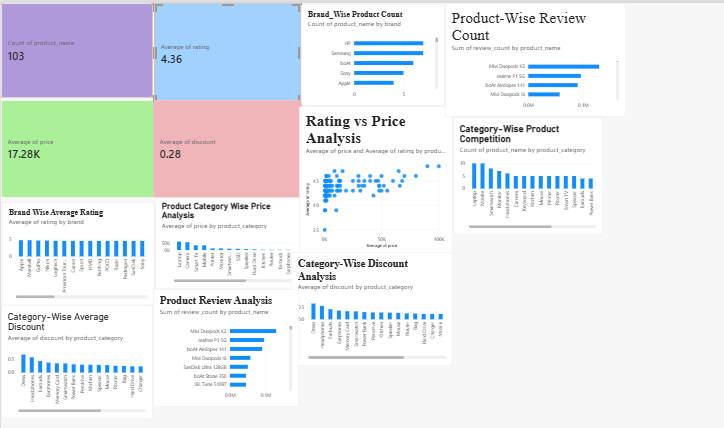

The dashboard page shown, as its layout file describes it:
{"tool":"powerbi","page":{"name":"Page 1","canvas":[1920,1080],"ordinal":0},"visuals":[{"type":"cardVisual","fields":{"Data":["CountNonNull(ecommerce_products.product_name)"]},"box":[0,15,387.5,255],"z":0},{"type":"cardVisual","fields":{"Data":["Avg(ecommerce_products.price)"]},"box":[0,270,388.3,246.7],"z":1},{"type":"cardVisual","fields":{"Data":["Avg(ecommerce_products.rating)"]},"box":[388.3,3.3,370,255],"z":2},{"type":"cardVisual","fields":{"Data":["Count(ecommerce_products.product_category)"]},"box":[598.8,361.2,370,246.7],"z":3},{"type":"columnChart","title":"Product Category Wise Price Analysis","fields":{"Category":["ecommerce_products.product_category"],"Y":["Avg(ecommerce_products.price)"]},"box":[0,453.3,366.7,236.7],"z":4},{"type":"clusteredColumnChart","title":"Brand Wise Average Rating","fields":{"Category":["ecommerce_products.brand"],"Y":["Avg(ecommerce_products.rating)"]},"box":[376.7,410,385,260],"z":5},{"type":"cardVisual","fields":{"Data":["Avg(ecommerce_products.discount)"]},"box":[383.3,258.3,378.8,246.2],"z":6},{"type":"clusteredBarChart","title":"Brand_Wise Product Count","fields":{"Category":["ecommerce_products.brand"],"Y":["CountNonNull(ecommerce_products.product_name)"]},"box":[761.7,43.3,356.7,226.7],"z":7},{"type":"scatterChart","title":"Rating vs Price Analysis","fields":{"Category":["ecommerce_products.product_name"],"X":["Avg(ecommerce_products.price)"],"Y":["Avg(ecommerce_products.rating)"]},"box":[751.7,258.3,366.7,368.3],"z":8},{"type":"clusteredBarChart","title":"Product-Wise Review Count","fields":{"Category":["ecommerce_products.product_name"],"Y":["Sum(ecommerce_products.review_count)"]},"box":[1118.3,31.7,483.3,248.3],"z":9},{"type":"clusteredColumnChart","title":"Category-Wise Discount Analysis","fields":{"Category":["ecommerce_products.product_category"],"Y":["Avg(ecommerce_products.discount)"]},"box":[1155,473.3,408.3,286.7],"z":10},{"type":"clusteredBarChart","title":"Product Review Analysis","fields":{"Category":["ecommerce_products.product_name"],"Y":["Sum(ecommerce_products.review_count)"]},"box":[298.3,665,475,290],"z":11},{"type":"clusteredColumnChart","title":"Category-Wise Average Discount","fields":{"Category":["ecommerce_products.product_category"],"Y":["Avg(ecommerce_products.discount)"]},"box":[773.3,608.3,333.3,263.3],"z":12},{"type":"clusteredColumnChart","title":"Category-Wise Product Competition","fields":{"Category":["ecommerce_products.product_category"],"Y":["CountNonNull(ecommerce_products.product_name)"]},"box":[1118.3,250,521.7,223.3],"z":13}]}

Visuals, with their boxes on the page's 1920x1080 design canvas (x1, y1, x2, y2). These are canvas units, not pixel positions in the 724x428 screenshot, which may show the page scaled, cropped or inside an application window:
cardVisual - CountNonNull(ecommerce_products.product_name): box(0, 15, 388, 270)
cardVisual - Avg(ecommerce_products.price): box(0, 270, 388, 517)
cardVisual - Avg(ecommerce_products.rating): box(388, 3, 758, 258)
cardVisual - Count(ecommerce_products.product_category): box(599, 361, 969, 608)
"Product Category Wise Price Analysis" columnChart: box(0, 453, 367, 690)
"Brand Wise Average Rating" clusteredColumnChart: box(377, 410, 762, 670)
cardVisual - Avg(ecommerce_products.discount): box(383, 258, 762, 504)
"Brand_Wise Product Count" clusteredBarChart: box(762, 43, 1118, 270)
"Rating vs Price Analysis" scatterChart: box(752, 258, 1118, 627)
"Product-Wise Review Count" clusteredBarChart: box(1118, 32, 1602, 280)
"Category-Wise Discount Analysis" clusteredColumnChart: box(1155, 473, 1563, 760)
"Product Review Analysis" clusteredBarChart: box(298, 665, 773, 955)
"Category-Wise Average Discount" clusteredColumnChart: box(773, 608, 1107, 872)
"Category-Wise Product Competition" clusteredColumnChart: box(1118, 250, 1640, 473)
